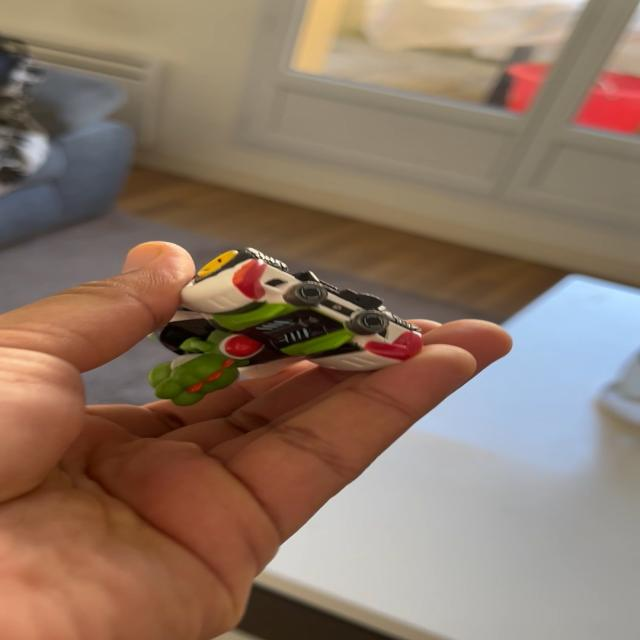yoshi: (108, 235, 460, 404)
